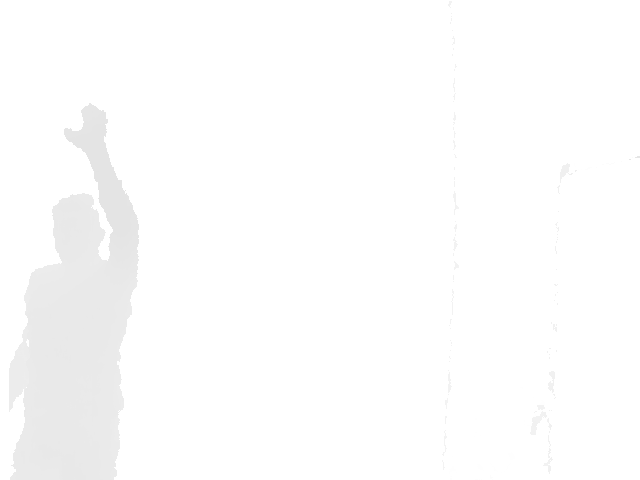hand: (62, 102, 109, 151)
head: (50, 192, 106, 261)
person: (8, 102, 141, 479)
